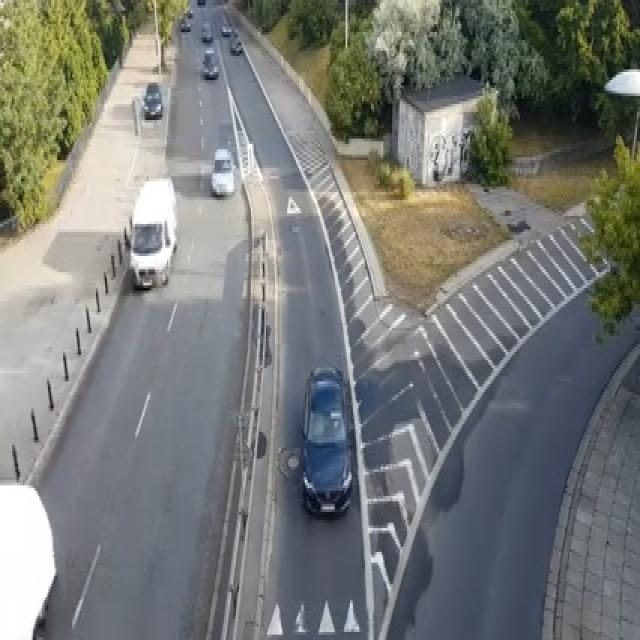bus: (128, 176, 177, 288)
car: (299, 362, 352, 514), (210, 146, 234, 194), (143, 80, 162, 117), (201, 48, 218, 77), (200, 21, 212, 40), (230, 35, 242, 53), (180, 13, 190, 30), (221, 21, 231, 35), (186, 8, 192, 16), (196, 0, 204, 5)
